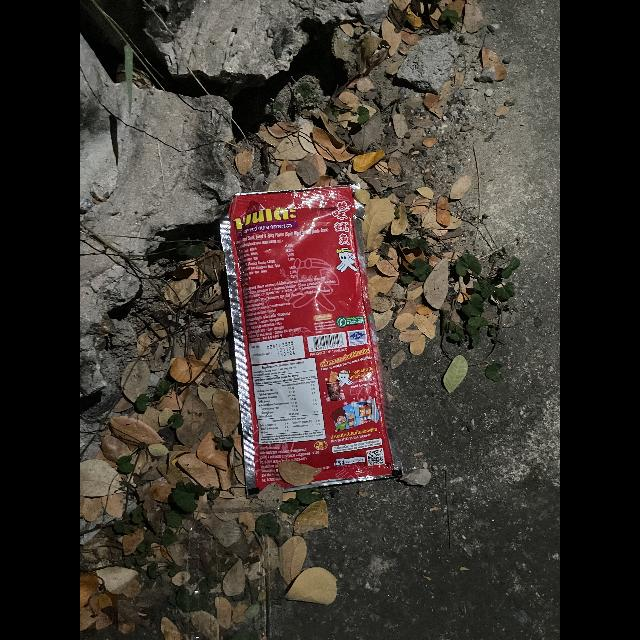snack_bag: (215, 182, 408, 500)
